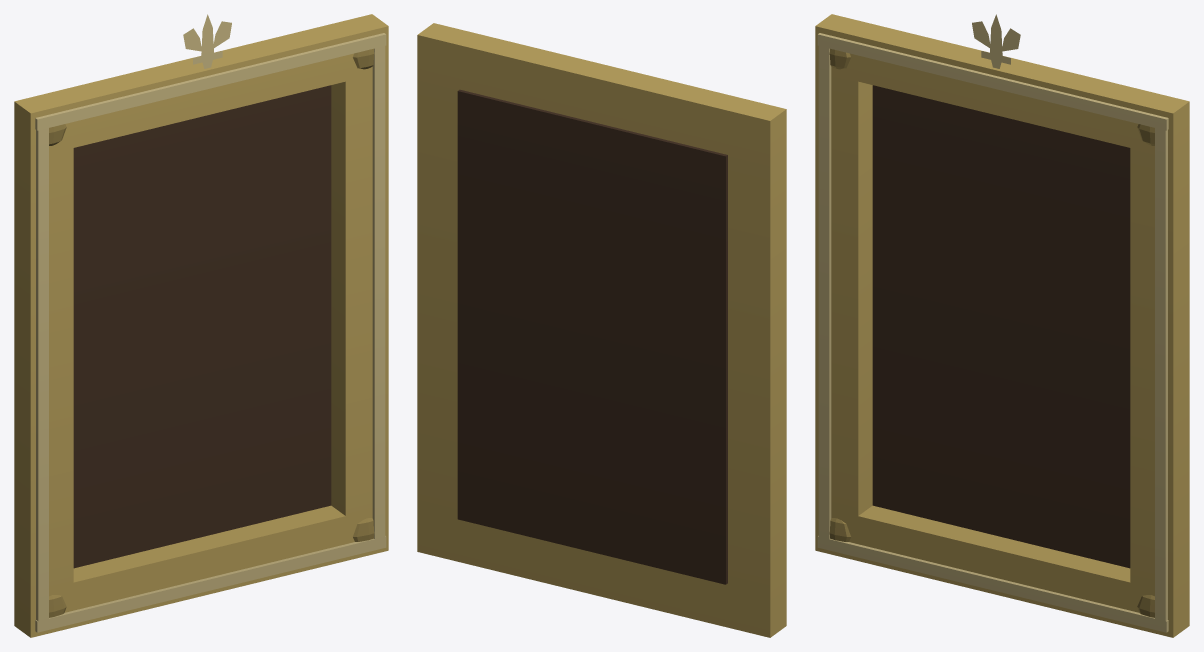
File: palace_frame_portrait.glb
3 views of the same model, side by side, from view 1: azimuth 30°, elevation 25°; view 2: azimuth 150°, elevation 25°; view 3: azimuth 330°, elevation 25° (orthographic).
Parts seen in each view (by area): view 1: palace_frame_portrait; view 2: palace_frame_portrait; view 3: palace_frame_portrait.
Boxes of the visible parts, x1,y1,x2,y2 form: palace_frame_portrait: [14, 14, 388, 637]; palace_frame_portrait: [417, 23, 786, 637]; palace_frame_portrait: [815, 14, 1189, 637].
Bounding box in the file's own units: 1 × 1.54 × 0.1.
